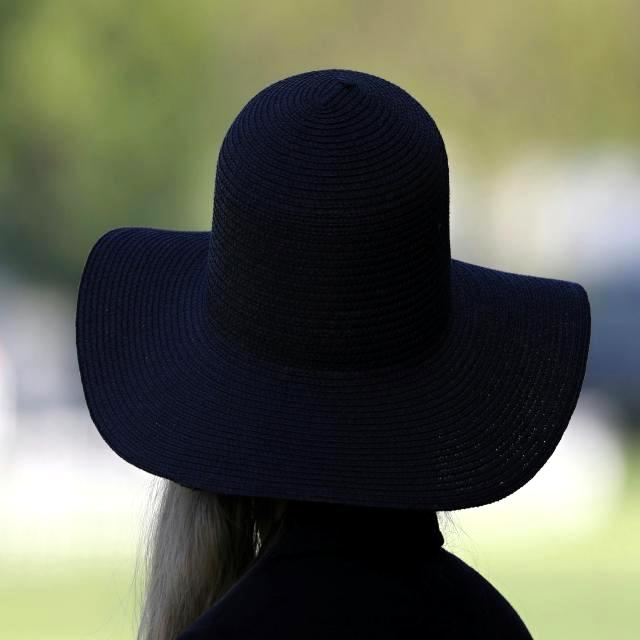no_hard_hat: (76, 70, 591, 535)
person: (77, 70, 591, 640)
